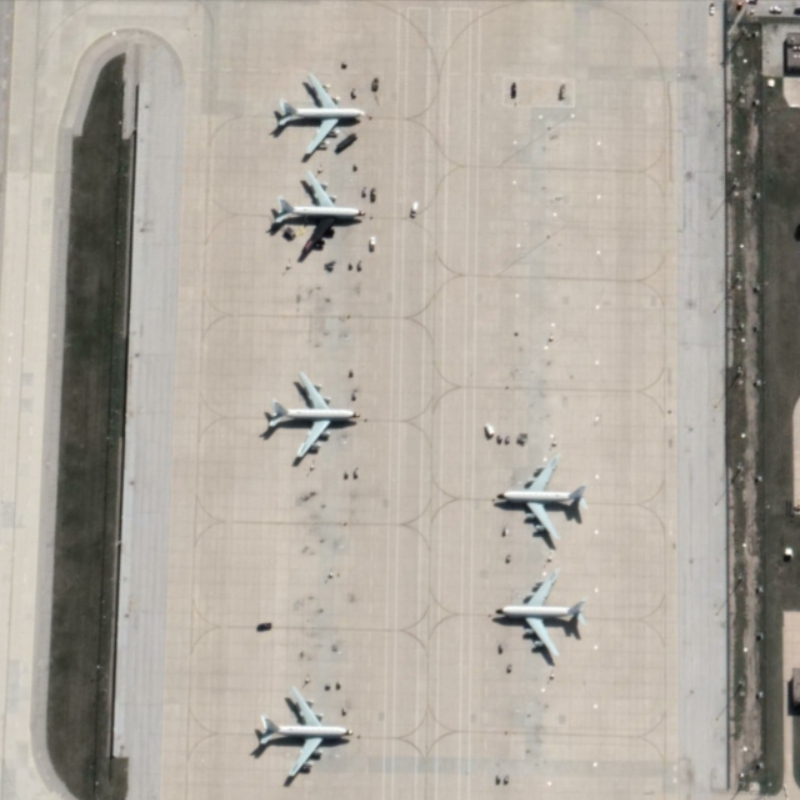A11: (253, 682, 359, 789), (489, 449, 597, 548), (492, 561, 589, 670), (265, 363, 362, 469), (267, 162, 365, 266), (271, 66, 371, 161)
